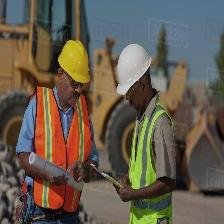Person: (15, 35, 100, 224), (114, 41, 178, 222)
helmet: (113, 42, 153, 97), (57, 40, 92, 85)
vest: (120, 104, 176, 224), (32, 88, 88, 197)
